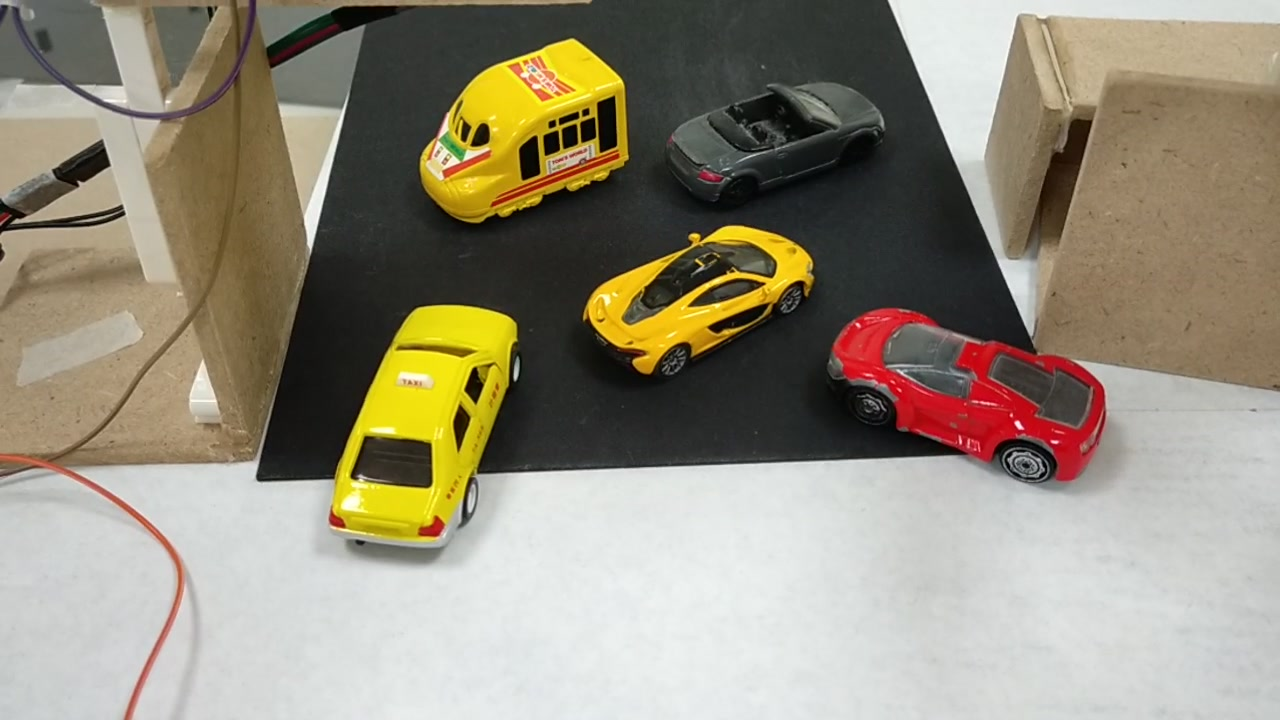car: (825, 303, 1102, 480), (329, 306, 518, 548), (577, 233, 808, 373), (670, 76, 886, 201)
